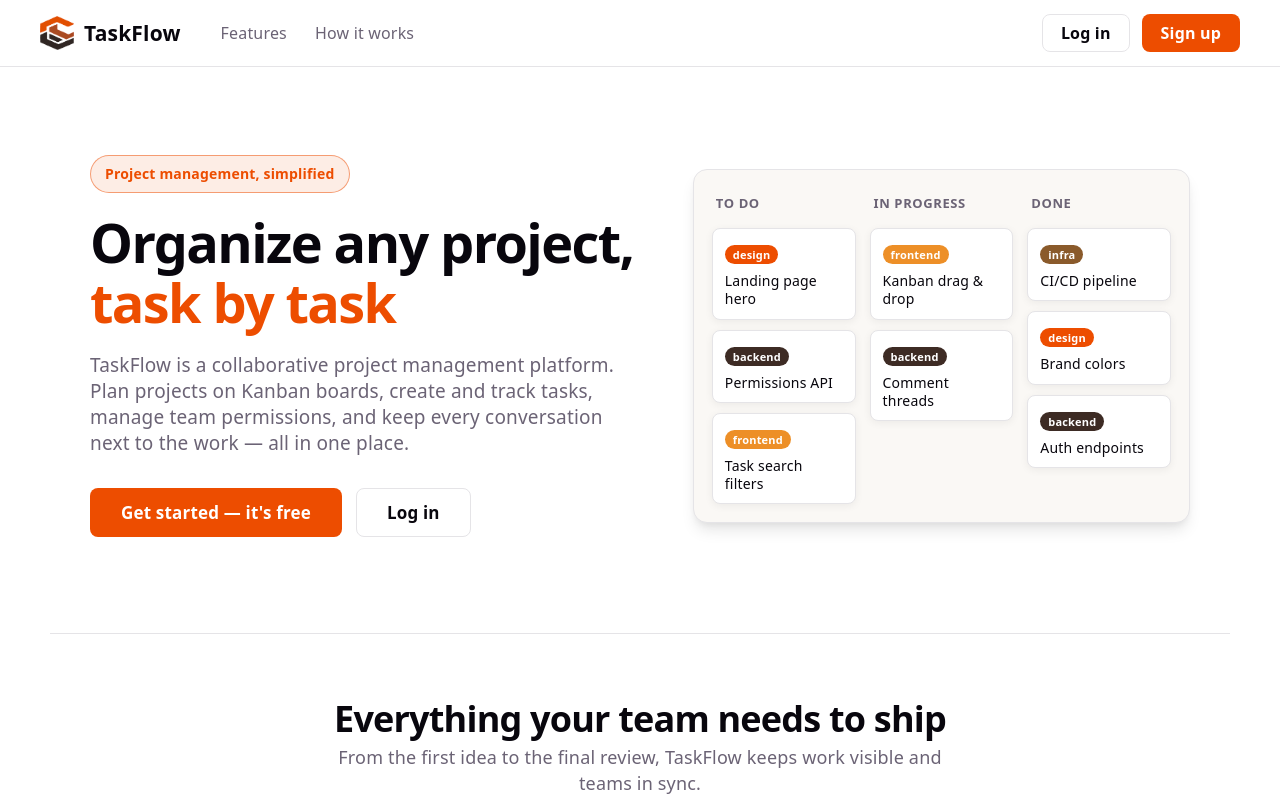
Scenario: LandingPage › navigates to the login page from the header
What coordinates should you click on to do the following:
click the link "Log in" next to "Get started — it's free"
I would click on:
 (413, 513)
Its box is left=356, top=488, right=471, bottom=537.
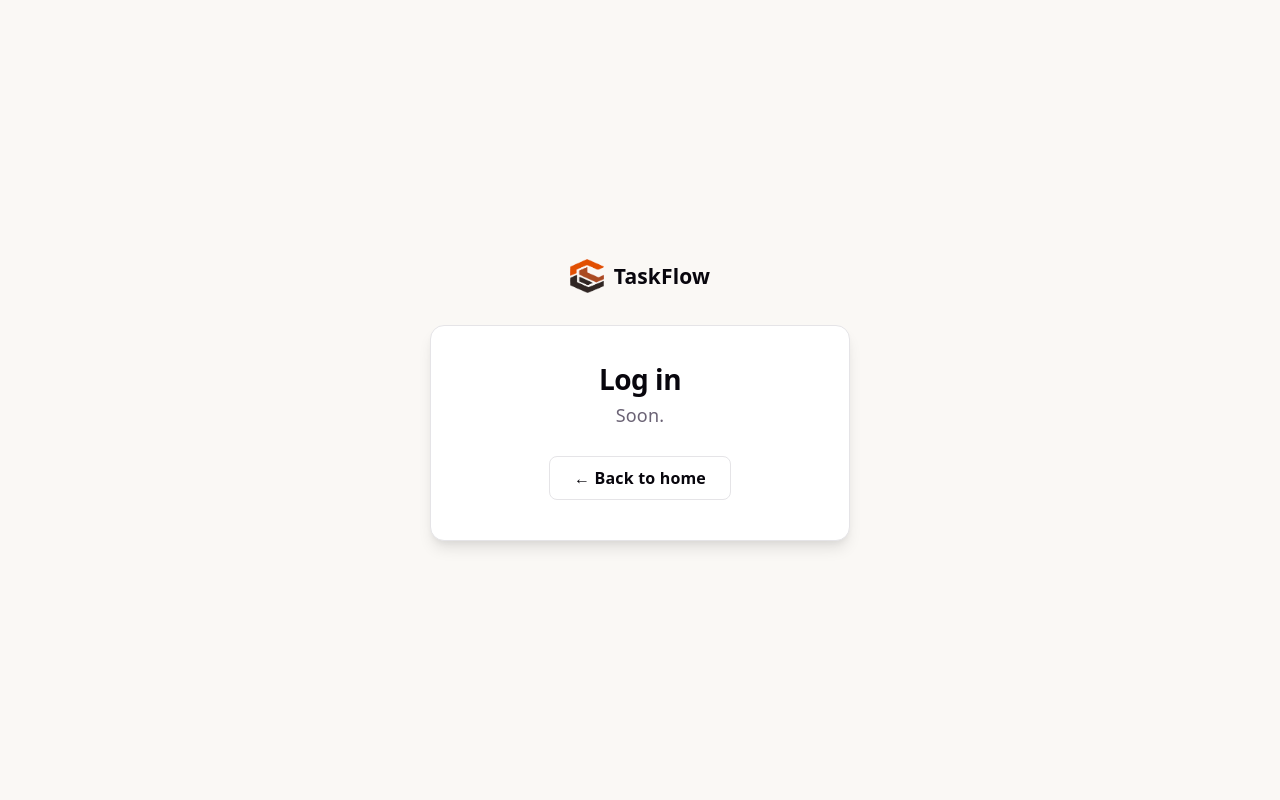
Check: the heading "Log in" is shown, box left=599, top=360, right=681, bottom=398
